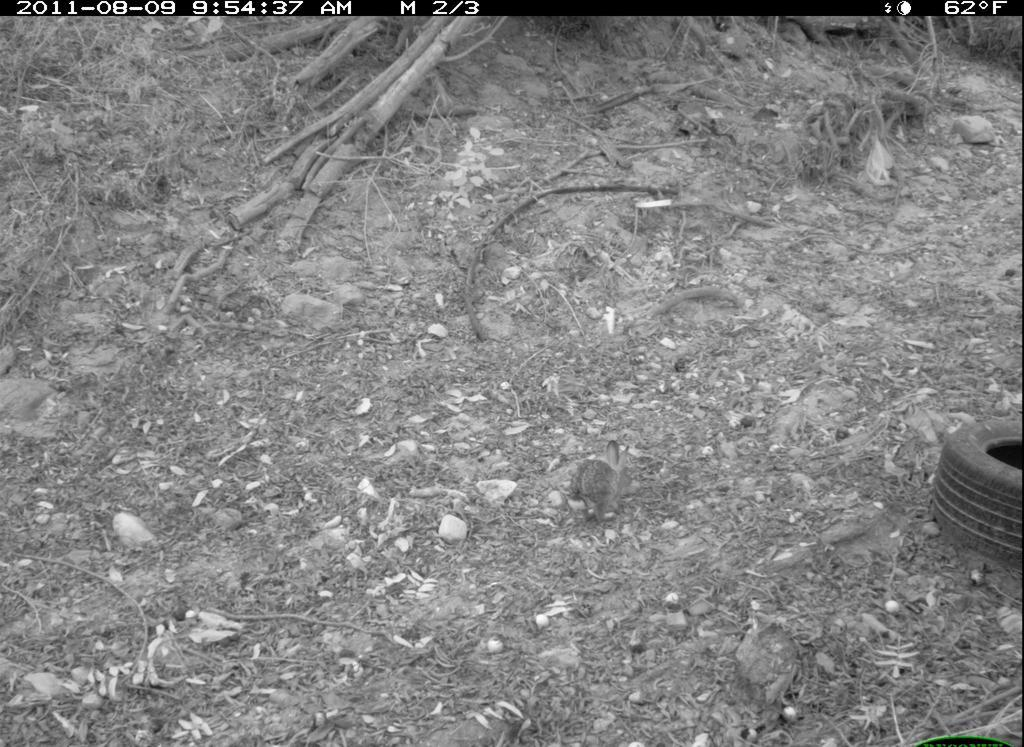rabbit: (570, 434, 648, 532)
